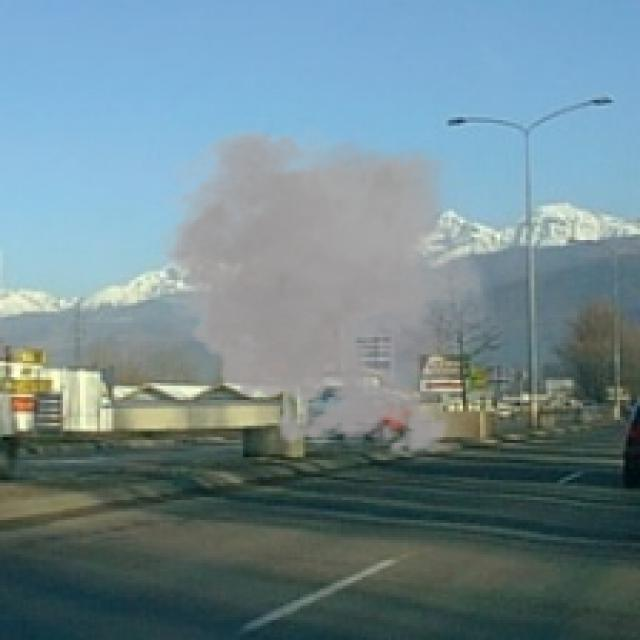smoke: (145, 117, 506, 466)
